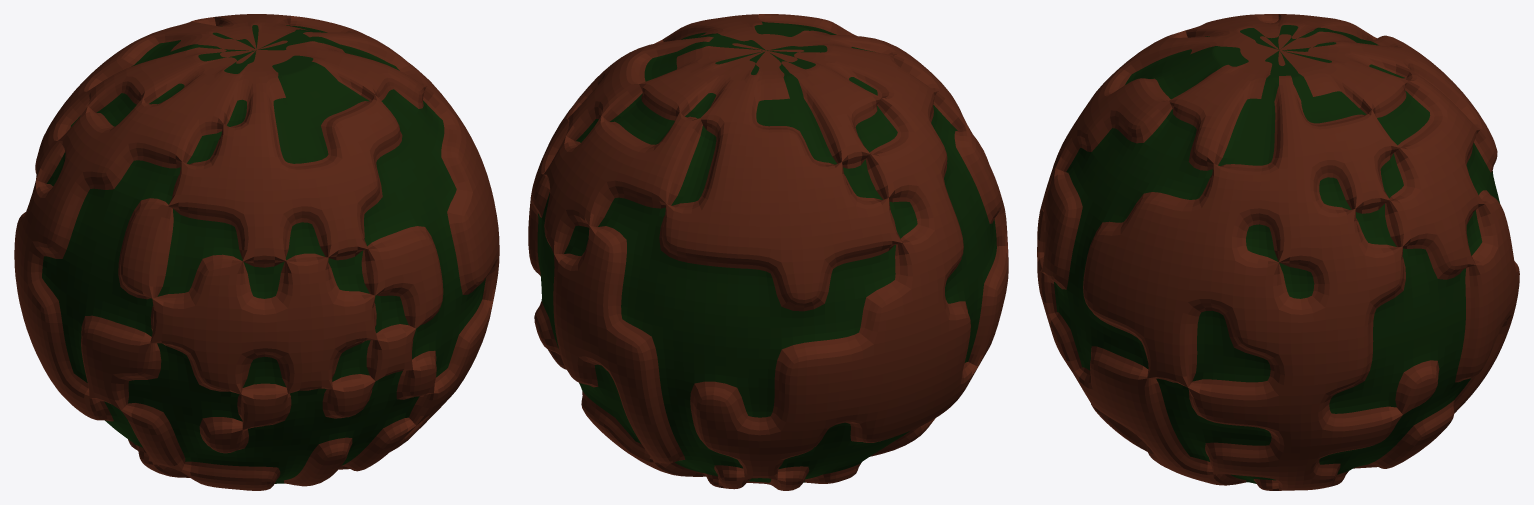
File: planetSludge.fbx
3 views of the same model, side by side, from view 1: azimuth 30°, elevation 25°; view 2: azimuth 150°, elevation 25°; view 3: azimuth 270°, elevation 25° (orthographic).
Visible parts, largest first — view 1: Sphere; view 2: Sphere; view 3: Sphere.
Boxes of the visible parts, x1=… form: Sphere: x1=14, y1=14, x2=499, y2=490; Sphere: x1=528, y1=14, x2=1008, y2=490; Sphere: x1=1037, y1=14, x2=1519, y2=490.
Bounding box in the file's own units: 196 × 180 × 196.
